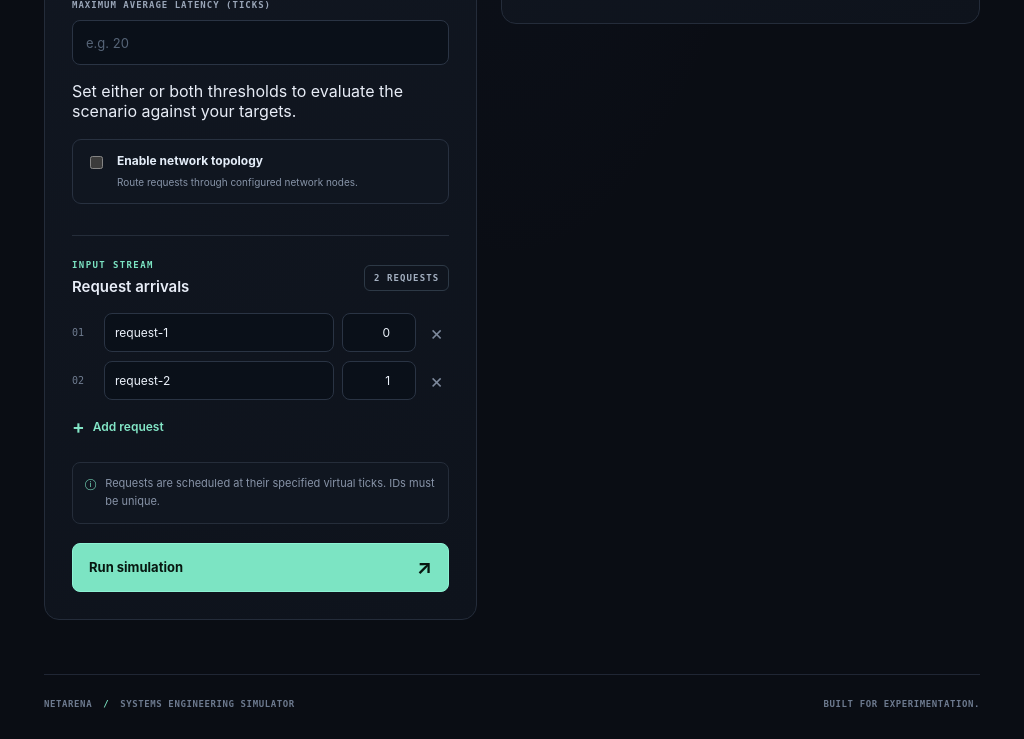
Test case: NetArena dashboard › submits the scenario and displays the returned metrics
(page scrolled)
Click the button "Run simulation ↗". click: {"x": 136, "y": 567}
box: x1=72 y1=543 x2=449 y2=592
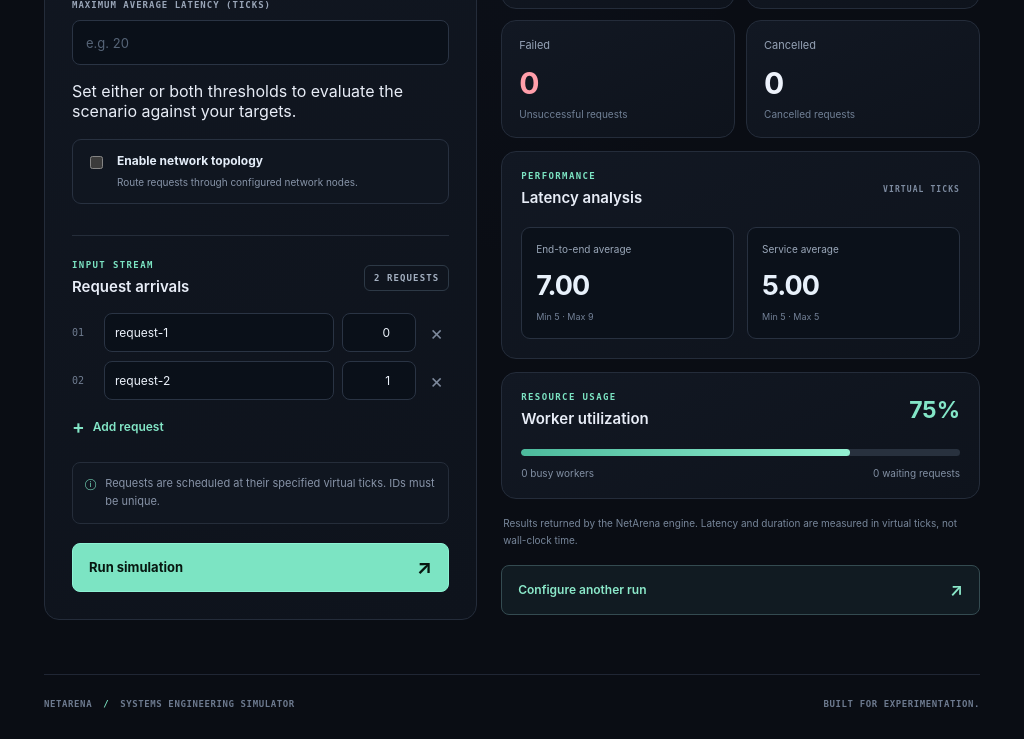
Result: the text "7.00" is shown at x1=536 y1=269 x2=589 y2=302
Result: the text "5.00" is shown at x1=762 y1=269 x2=819 y2=302
